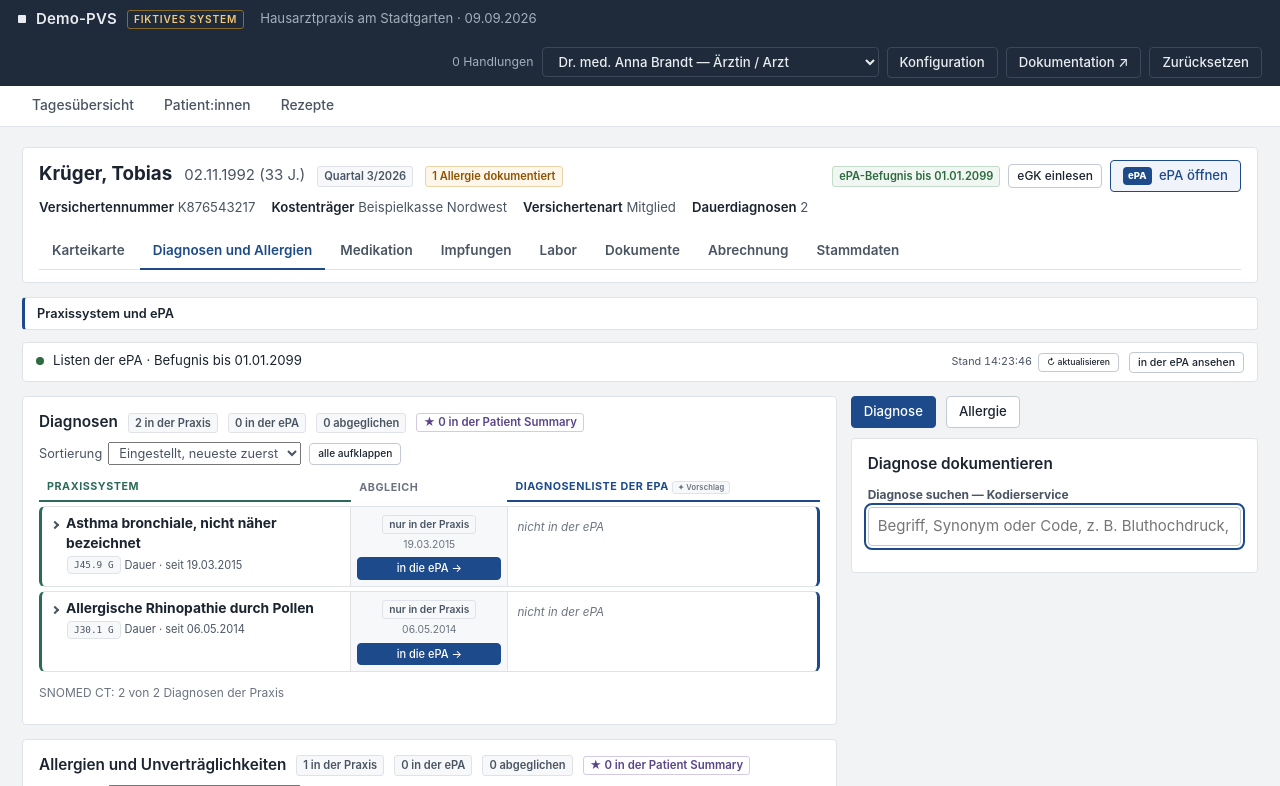
Test: Splitscreen Diagnosen und Allergien › nimmt einen Eintrag der Praxis mit Lesenachweis und Organisation in die Diagnosenliste auf
The image size is (1280, 786).
Click the button "in die ePA →" in the row of "J45.9". click: (429,569)
box: 357,557 -> 501,580
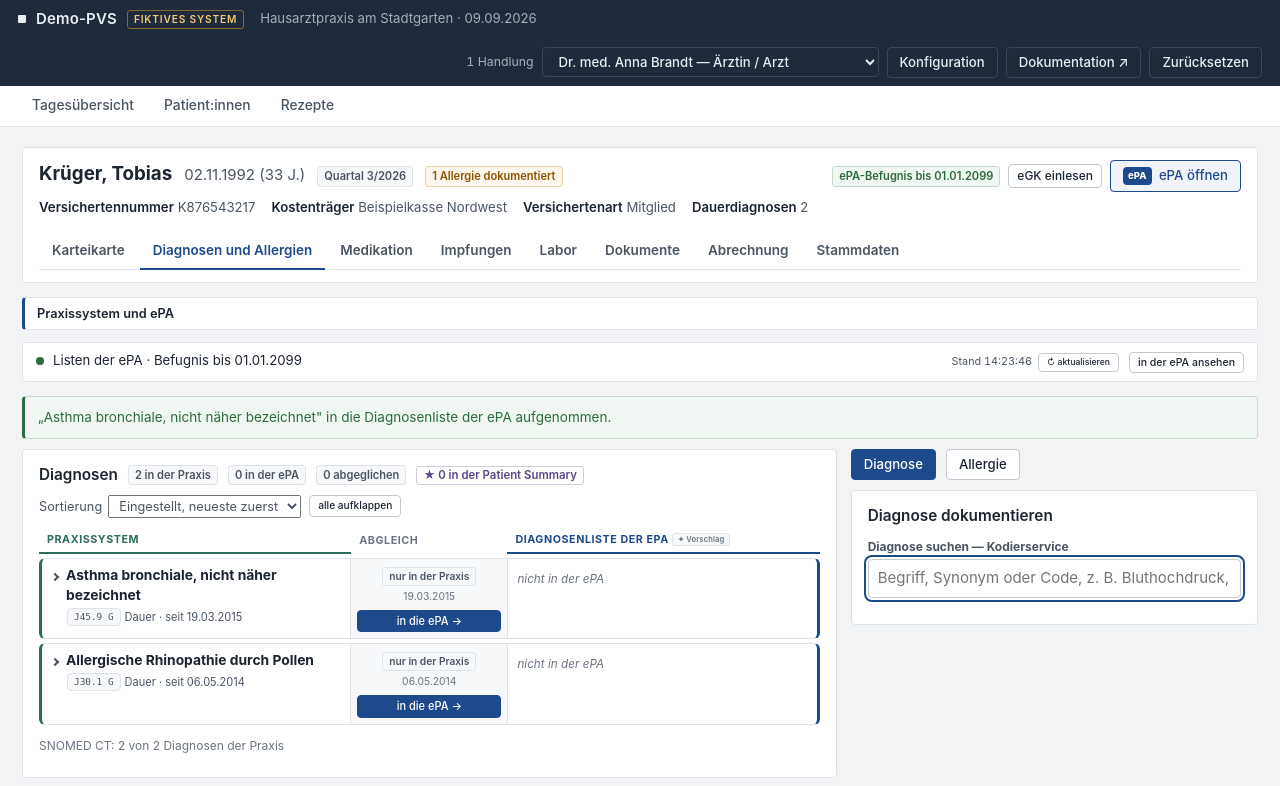
Now the text "in die Diagnosenliste der ePA aufgenommen" is shown, box 38,409 -> 611,425
